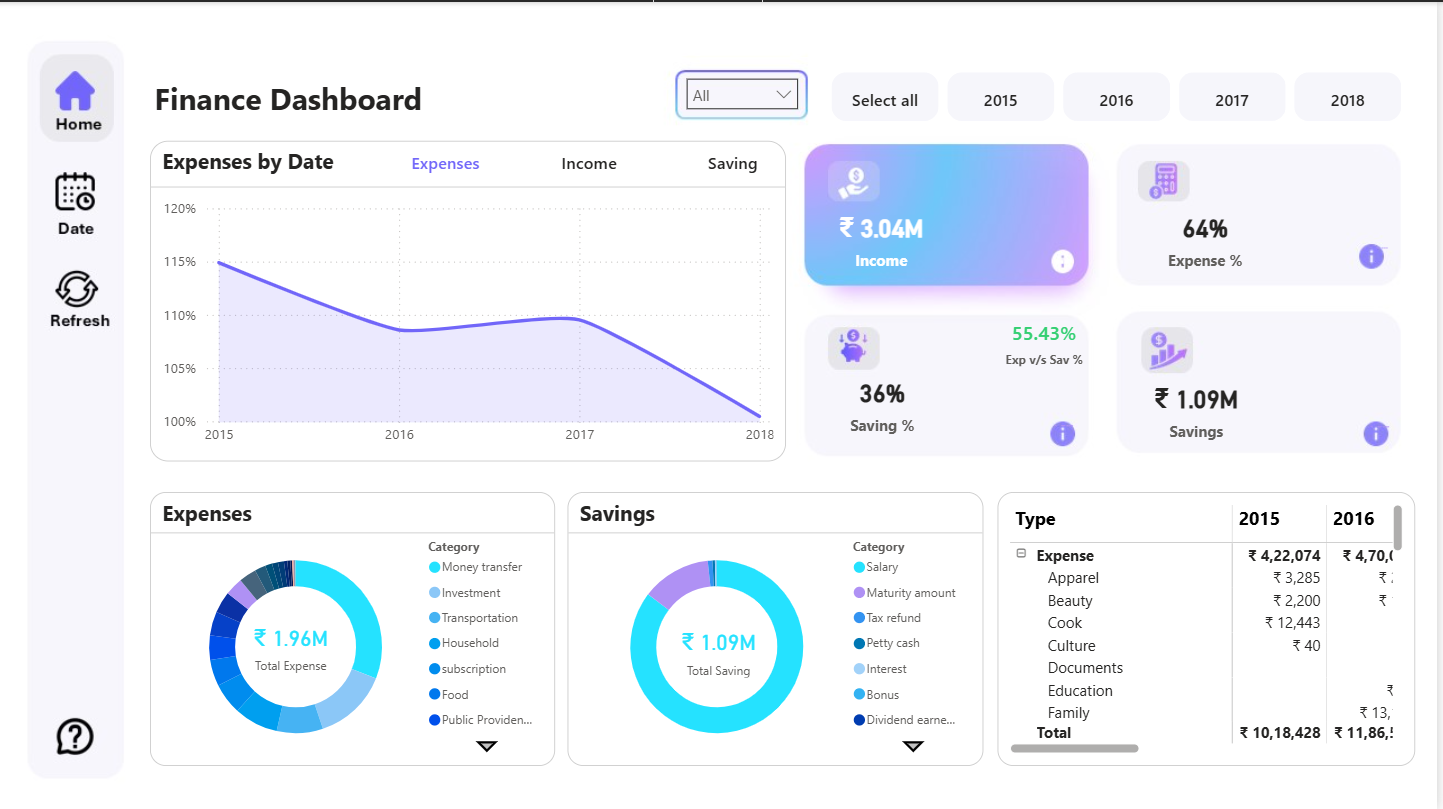

The page's visual inventory and layout, read from the dashboard file:
{"tool":"powerbi","page":{"name":"Page 1","canvas":[1280,720],"ordinal":0},"visuals":[{"type":"advancedSlicerVisual","fields":{"Values":["Daily Household Transactions.Date.Variation.Date Hierarchy.Year"]},"box":[735.5,57.6,518.7,53.5],"z":0},{"type":"donutChart","title":"Expenses","fields":{"Category":["Daily Household Transactions.Category"],"Y":["Daily Household Transactions.Expense"]},"box":[133.1,436.4,360.9,244.3],"z":1000},{"type":"pivotTable","fields":{"Columns":["Daily Household Transactions.Year"],"Values":["Daily Household Transactions.Total_Value"],"Rows":["Daily Household Transactions.Type","Daily Household Transactions.Category"]},"box":[887.8,436.4,371.9,244.3],"z":2000},{"type":"donutChart","title":"Savings","fields":{"Category":["Daily Household Transactions.Category"],"Y":["Daily Household Transactions.Saving"]},"box":[505,436.4,370.5,244.3],"z":3000},{"type":"areaChart","fields":{"Y":["Daily Household Transactions.Line_Chart_Measures"],"Category":["Daily Household Transactions.Year"]},"box":[133.1,123.5,566.7,285.4],"z":4000},{"type":"advancedSlicerVisual","fields":{"Values":["Line_selection_table.Type"]},"box":[332.1,123.5,388.3,31.6],"z":5000},{"type":"textbox","box":[132.5,62.6,295.7,45.4],"z":6000},{"type":"card","fields":{"Values":["Daily Household Transactions.Income"]},"box":[735,175.5,100.6,68.7],"z":7000},{"type":"card","fields":{"Values":["Daily Household Transactions.Expense %"]},"box":[1018.2,175.6,109.8,68.6],"z":8000},{"type":"card","fields":{"Values":["Daily Household Transactions.Saving%"]},"box":[735.5,319.7,100.2,75.5],"z":9000},{"type":"card","fields":{"Values":["Daily Household Transactions.Saving"]},"box":[1014.1,329.3,102.9,65.9],"z":10000},{"type":"slicer","fields":{"Values":["Daily Household Transactions.Date.Variation.Date Hierarchy.Month"]},"box":[601,57.6,119.4,41.2],"z":11000},{"type":"card","fields":{"Values":["Daily Household Transactions.Expenses_vs_Saving"]},"box":[887.8,277.2,83.7,52.1],"z":12000},{"type":"actionButton","box":[33.1,236.8,71.2,57.7],"z":13000},{"type":"card","fields":{"Values":["Daily Household Transactions.Expense"]},"box":[219.6,541.1,79.8,65],"z":14000},{"type":"card","fields":{"Values":["Daily Household Transactions.Saving"]},"box":[597.5,548.5,84.7,57.7],"z":15000},{"type":"card","fields":{"Values":["Daily Household Transactions.Income"]},"box":[930.1,218.4,30.7,25.8],"z":16000},{"type":"card","fields":{"Values":["Daily Household Transactions.Income"]},"box":[930.1,369.3,30.7,25.8],"z":17000},{"type":"card","fields":{"Values":["Daily Household Transactions.Income"]},"box":[1211,211,30.7,25.8],"z":18000},{"type":"card","fields":{"Values":["Daily Household Transactions.Income"]},"box":[1212.3,370.6,30.7,25.8],"z":19000}]}

Visuals, with their boxes on the page's 1280x720 design canvas (x1, y1, x2, y2). These are canvas units, not pixel positions in the 1443x809 screenshot, which may show the page scaled, cropped or inside an application window:
advancedSlicerVisual - Daily Household Transactions.Date.Variation.Date Hierarchy.Year: 736,58,1254,111
"Expenses" donutChart: 133,436,494,681
pivotTable - Daily Household Transactions.Year x Daily Household Transactions.Total_Value: 888,436,1260,681
"Savings" donutChart: 505,436,876,681
areaChart - Daily Household Transactions.Line_Chart_Measures x Daily Household Transactions.Year: 133,124,700,409
advancedSlicerVisual - Line_selection_table.Type: 332,124,720,155
textbox: 132,63,428,108
card - Daily Household Transactions.Income: 735,176,836,244
card - Daily Household Transactions.Expense %: 1018,176,1128,244
card - Daily Household Transactions.Saving%: 736,320,836,395
card - Daily Household Transactions.Saving: 1014,329,1117,395
slicer - Daily Household Transactions.Date.Variation.Date Hierarchy.Month: 601,58,720,99
card - Daily Household Transactions.Expenses_vs_Saving: 888,277,972,329
actionButton: 33,237,104,294
card - Daily Household Transactions.Expense: 220,541,299,606
card - Daily Household Transactions.Saving: 598,548,682,606
card - Daily Household Transactions.Income: 930,218,961,244
card - Daily Household Transactions.Income: 930,369,961,395
card - Daily Household Transactions.Income: 1211,211,1242,237
card - Daily Household Transactions.Income: 1212,371,1243,396
